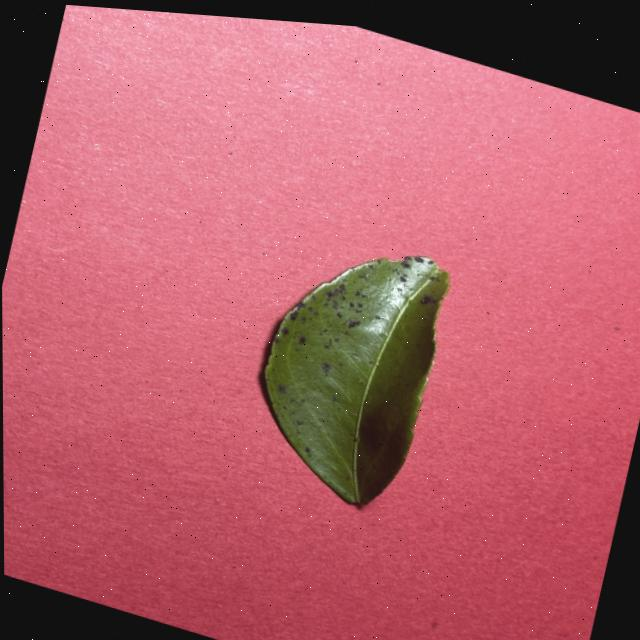sooty_mold: (265, 256, 448, 504)
